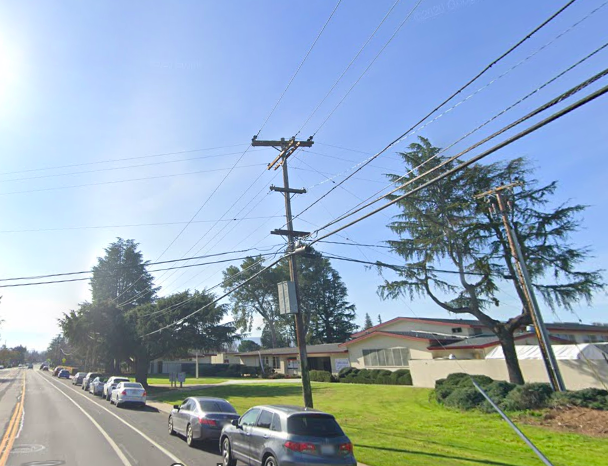utility_pole: (243, 123, 320, 178)
